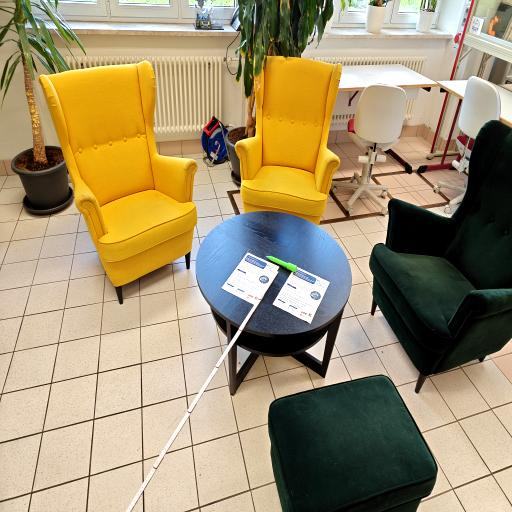Probe-Detection: (266, 256, 297, 272)
